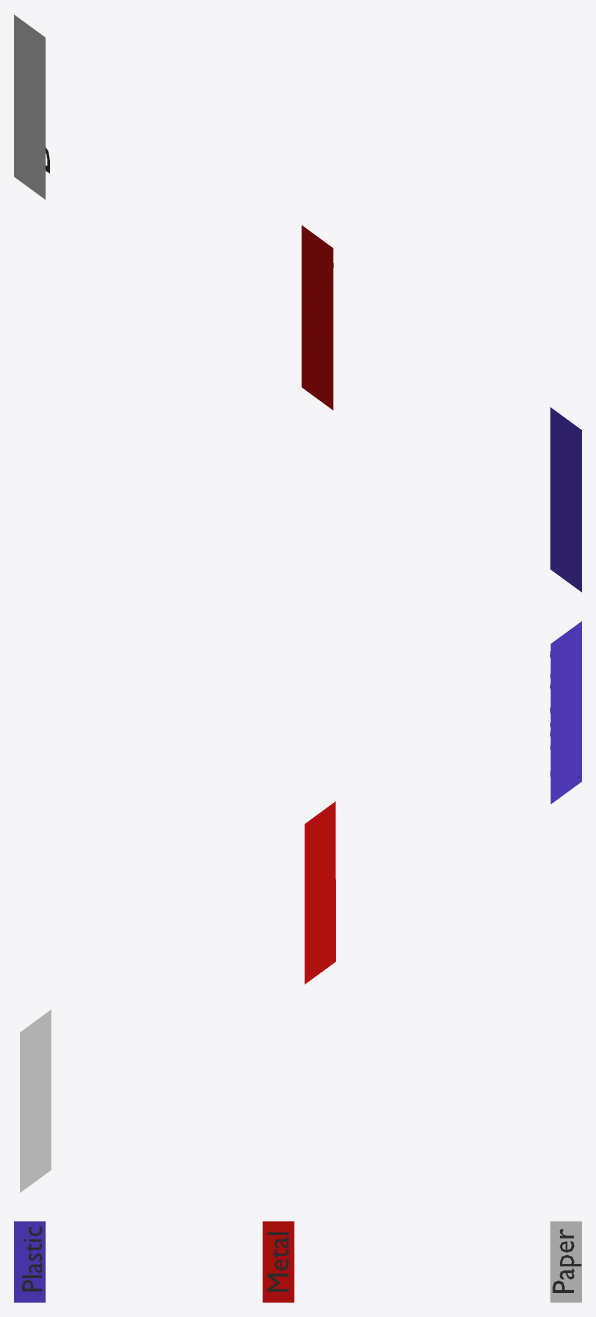
File: plasticmetalpaper.glb
3 renders of one model, top to bottom at view 1: azimuth 30°, elevation 25°; view 2: azimuth 150°, elevation 25°; view 3: azimuth 270°, elevation 25°, orthographic. The views are drawn at different scales.
Visible parts, largest first — view 1: Trashbin_tubes.009; view 2: Trashbin_tubes.009; view 3: Trashbin_tubes.009, Text.
Part boxes in pixels (left/top/right/bottom): Trashbin_tubes.009: left=14, top=14, right=581, bottom=592; Trashbin_tubes.009: left=20, top=621, right=581, bottom=1192; Trashbin_tubes.009: left=14, top=1221, right=581, bottom=1302; Text: left=22, top=1226, right=581, bottom=1292.
Size of the model in its own units: 0.0429 by 0.9828 by 6.23.
